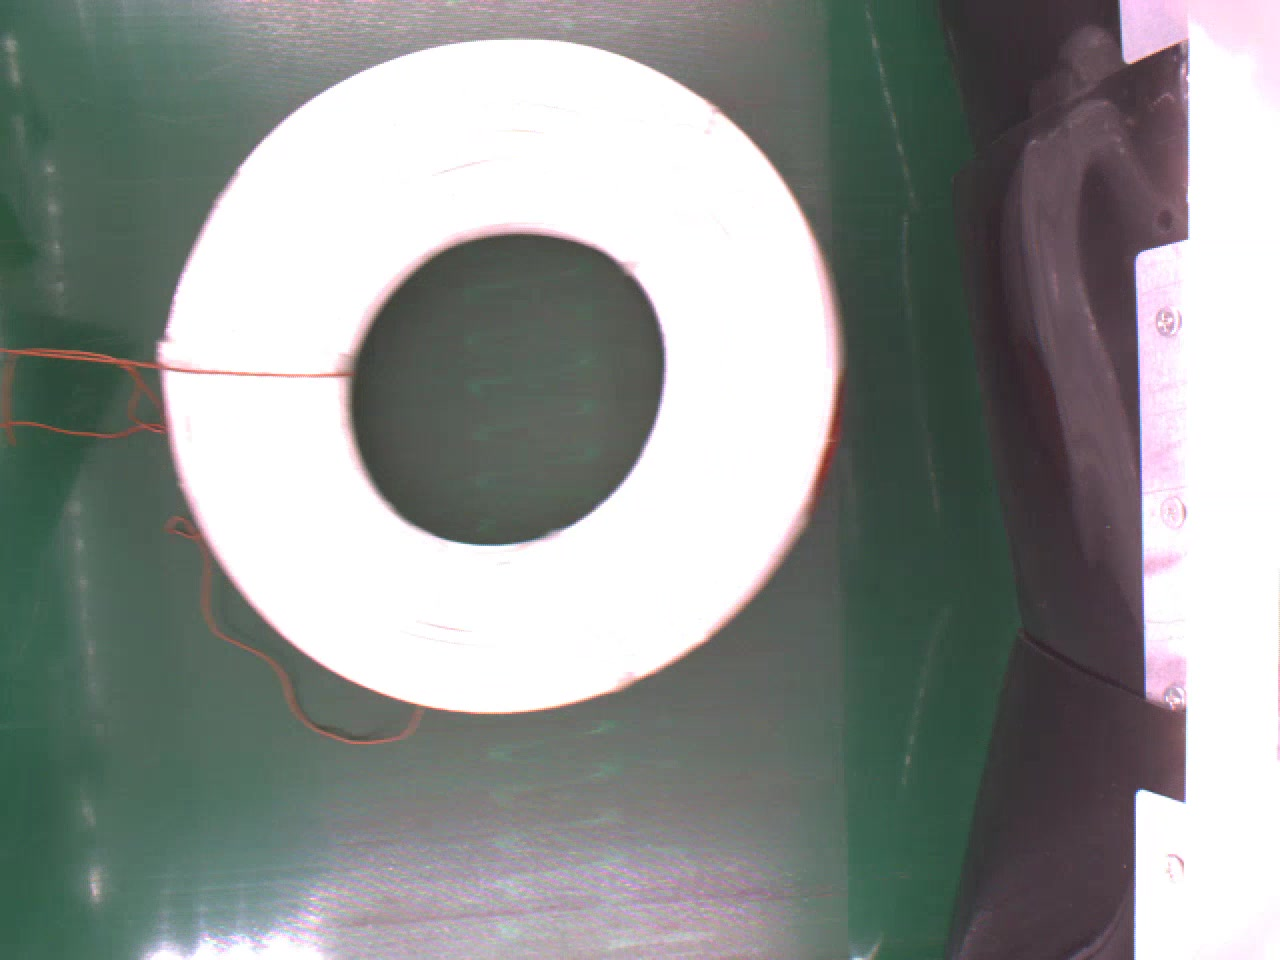white: (165, 35, 846, 699)
